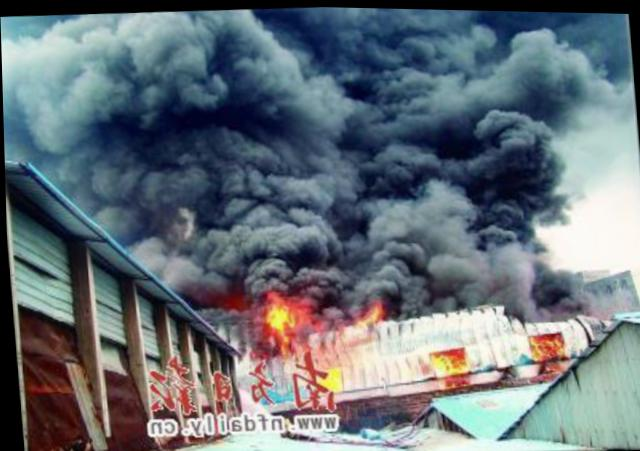fire: (259, 289, 308, 336), (429, 344, 467, 375), (530, 327, 567, 357), (322, 361, 340, 390), (363, 299, 381, 321)
